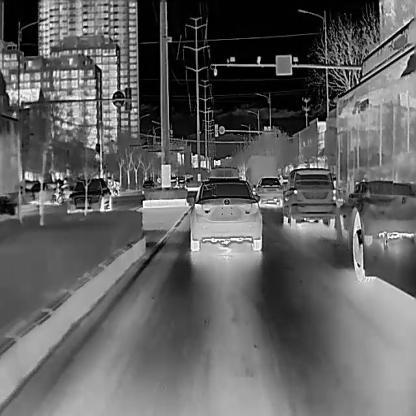car: (324, 15, 415, 301), (185, 178, 263, 251), (281, 166, 335, 226), (66, 176, 112, 213), (248, 154, 276, 186), (252, 176, 282, 204), (7, 183, 34, 205), (53, 181, 76, 204), (31, 181, 55, 203), (140, 179, 155, 193), (170, 175, 178, 187), (178, 175, 185, 187)
